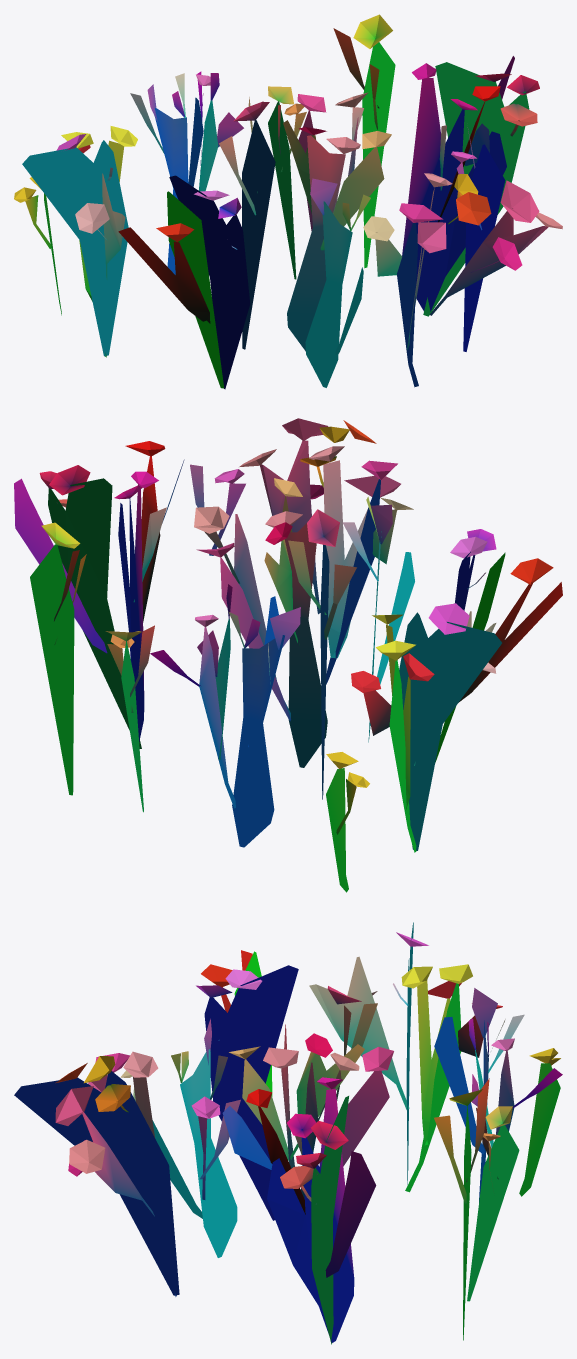
The model's file is Nordic_Coastal_Groundcover_vlqkdeaja_Mid_vlqkdeaja_VarB_LOD1.fbx.
3 views of the same model, one above another, from view 1: azimuth 30°, elevation 25°; view 2: azimuth 150°, elevation 25°; view 3: azimuth 270°, elevation 25° (orthographic). The views are drawn at different scales.
Visible parts, largest first — view 1: _4oeb_VarB_LOD3; view 2: _4oeb_VarB_LOD3; view 3: _4oeb_VarB_LOD3.
Boxes of the visible parts, x1,y1,x2,y2 form: _4oeb_VarB_LOD3: (14,14,562,389); _4oeb_VarB_LOD3: (14,418,562,892); _4oeb_VarB_LOD3: (14,922,562,1344).
Bounding box in the file's own units: 98.46 × 51.38 × 93.89.
